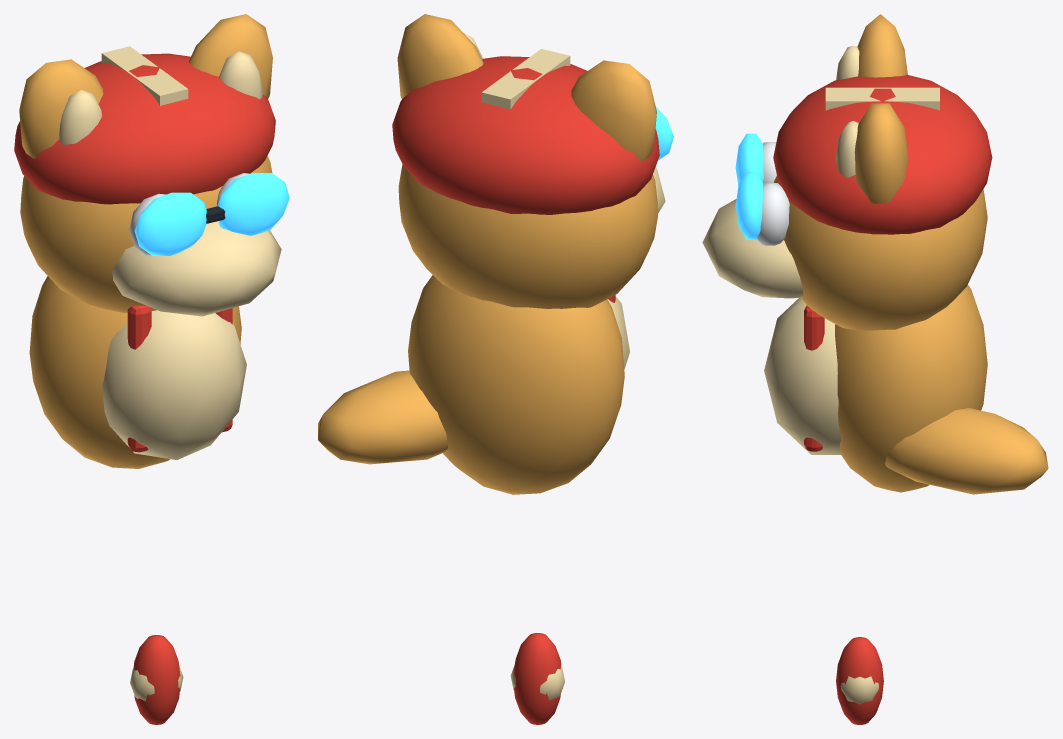
The model's file is kart_driver.glb.
3 renders of one model, left to right at view 1: azimuth 30°, elevation 25°; view 2: azimuth 150°, elevation 25°; view 3: azimuth 270°, elevation 25°, orthographic. The views are drawn at different scales.
Visible parts, largest first — view 1: DriverHead_DriverSuit, DriverHead_DriverFur, DriverBody_DriverCream, DriverHead_DriverCream, DriverBody_DriverFur, DriverHead_DriverGlass, DriverUpperArmL, DriverBody_DriverSuit, DriverHead_DriverWhite, DriverHandL; view 2: DriverBody_DriverFur, DriverHead_DriverFur, DriverHead_DriverSuit, DriverUpperArmL, DriverHead_DriverCream, DriverHandL, DriverHead_DriverGlass; view 3: DriverBody_DriverFur, DriverHead_DriverFur, DriverHead_DriverSuit, DriverHead_DriverCream, DriverBody_DriverCream, DriverHead_DriverGlass, DriverUpperArmL, DriverHead_DriverWhite, DriverBody_DriverSuit, DriverHandL.
Boxes of the visible parts, <box> form: DriverHead_DriverSuit: <box>14,53,275,204</box>; DriverHead_DriverFur: <box>19,14,272,312</box>; DriverBody_DriverCream: <box>102,310,246,459</box>; DriverHead_DriverCream: <box>58,46,281,316</box>; DriverBody_DriverFur: <box>29,276,241,468</box>; DriverHead_DriverGlass: <box>134,173,289,255</box>; DriverUpperArmL: <box>133,635,180,724</box>; DriverBody_DriverSuit: <box>127,305,232,452</box>; DriverHead_DriverWhite: <box>129,173,249,255</box>; DriverHandL: <box>130,666,183,701</box>; DriverBody_DriverFur: <box>318,275,624,494</box>; DriverHead_DriverFur: <box>397,14,657,308</box>; DriverHead_DriverSuit: <box>392,56,659,214</box>; DriverUpperArmL: <box>513,633,561,724</box>; DriverHead_DriverCream: <box>463,32,665,213</box>; DriverHandL: <box>510,665,564,700</box>; DriverHead_DriverGlass: <box>655,106,673,160</box>; DriverBody_DriverFur: <box>835,284,1048,494</box>; DriverHead_DriverFur: <box>774,14,987,330</box>; DriverHead_DriverSuit: <box>773,75,992,234</box>; DriverHead_DriverCream: <box>702,45,939,298</box>; DriverBody_DriverCream: <box>764,298,840,454</box>; DriverHead_DriverGlass: <box>735,133,764,239</box>; DriverUpperArmL: <box>836,637,883,724</box>; DriverHead_DriverWhite: <box>756,142,789,245</box>; DriverBody_DriverSuit: <box>804,305,824,451</box>; DriverHandL: <box>840,676,878,704</box>.
Size of the model in its own units: 1.29 by 3.2 by 1.52.
